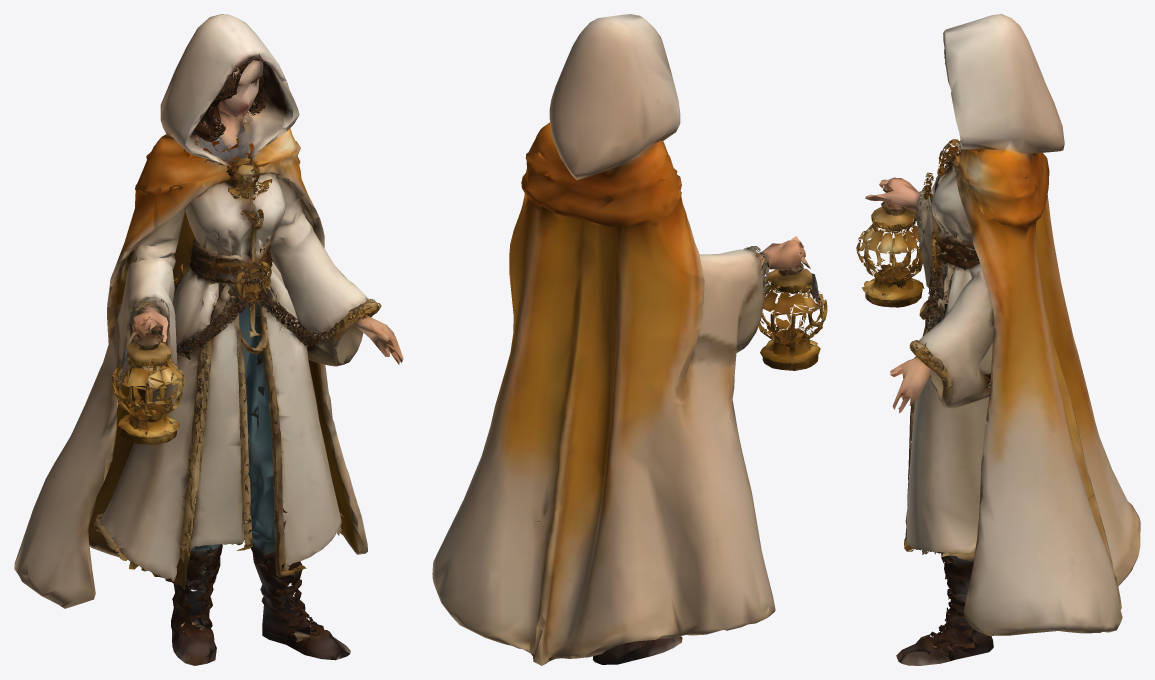
The model's file is fig_npc_wren.glb.
3 views of the same model, side by side, from view 1: azimuth 30°, elevation 25°; view 2: azimuth 150°, elevation 25°; view 3: azimuth 270°, elevation 25° (orthographic). The views are drawn at different scales.
Parts seen in each view (by area): view 1: geometry_0; view 2: geometry_0; view 3: geometry_0.
Part boxes in pixels (x1,y1,x2,y2): geometry_0: (14,14,403,665); geometry_0: (432,14,827,665); geometry_0: (856,14,1140,665).
Size of the model in its own units: 0.5135 by 0.9415 by 0.3977.
Materials: 1 (1 with a texture image).
